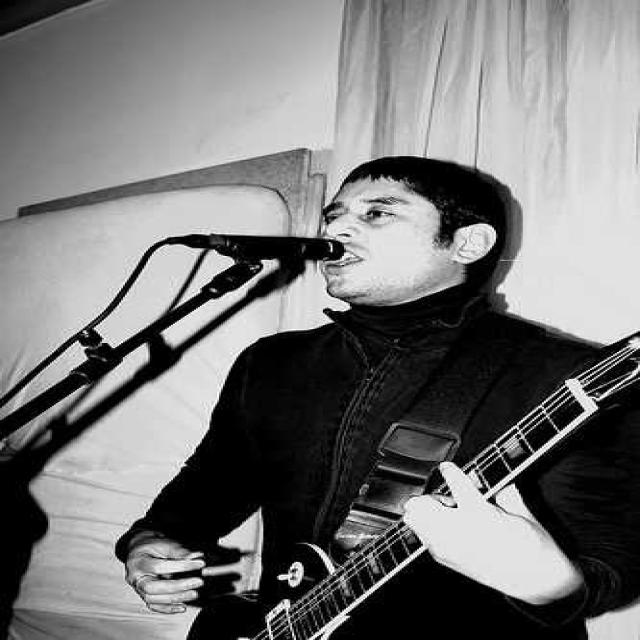microphone: (192, 227, 358, 280)
